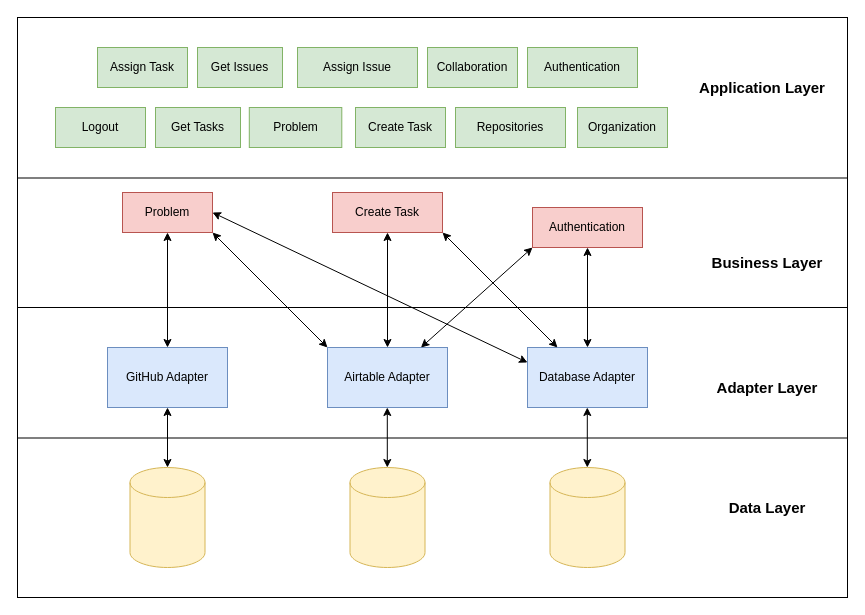
The diagram is 865 pixels wide and 615 high, and some of its shapes have lost their labels. The shapes that lost their labels are listed below. From the top down, each one's box as (x1, y1, x2, y2) in pixels, then its label:
(129, 466, 205, 568): Git Hub API
(349, 466, 425, 568): Airtable API
(549, 466, 625, 568): User DB
